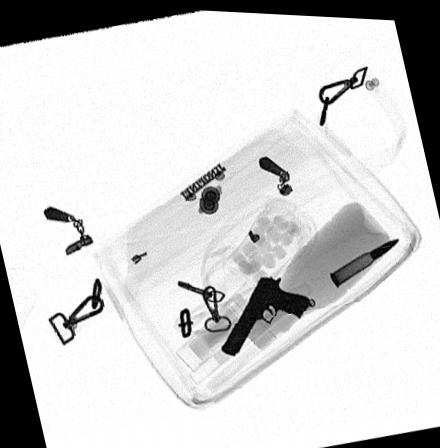Bullet: (329, 233, 399, 283)
Gun: (220, 273, 311, 353)
